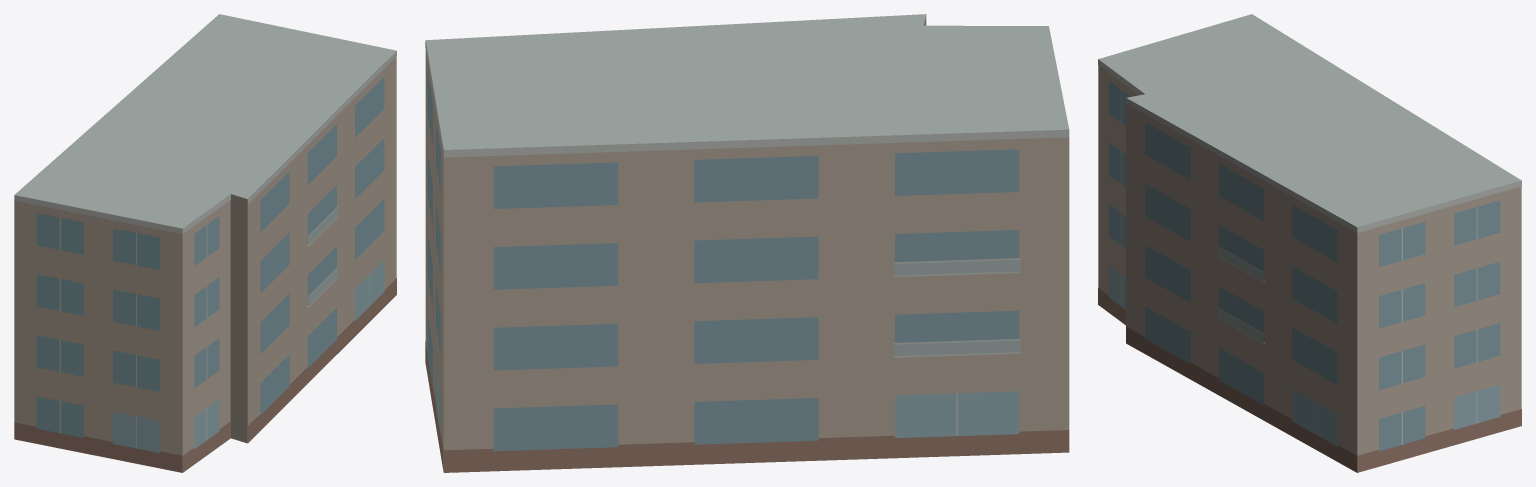
File: survey-upis-32767293.glb
3 renders of one model, left to right at view 1: azimuth 30°, elevation 25°; view 2: azimuth 150°, elevation 25°; view 3: azimuth 270°, elevation 25°, orthographic. The views are drawn at different scales.
Visible parts, largest first — view 1: survey-upis-32767293.tmp; view 2: survey-upis-32767293.tmp; view 3: survey-upis-32767293.tmp.
Part boxes in pixels (x1,y1,x2,y2): survey-upis-32767293.tmp: [14, 14, 396, 472]; survey-upis-32767293.tmp: [425, 14, 1069, 472]; survey-upis-32767293.tmp: [1098, 14, 1521, 472].
Bounding box in the file's own units: 19.57 × 10.5 × 16.42.
